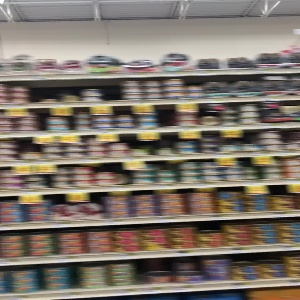void: (157, 103, 178, 129), (102, 78, 121, 99)
